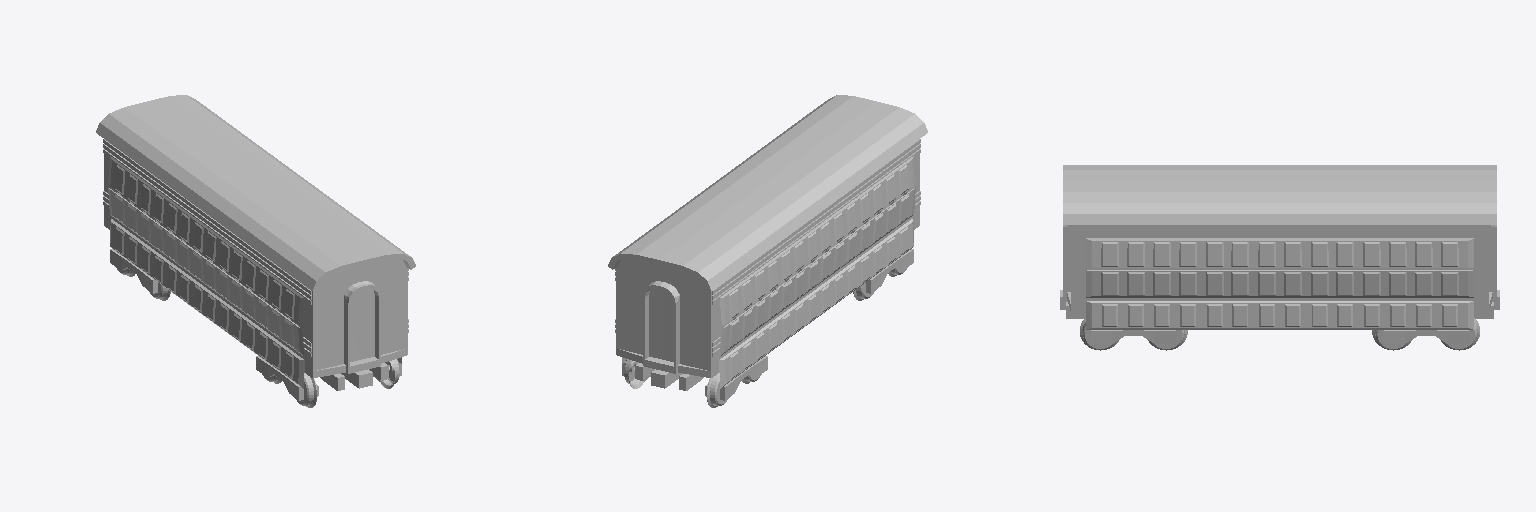
Rendered from armouredPersonelCar.obj.
3 renders of one model, left to right at view 1: azimuth 30°, elevation 25°; view 2: azimuth 150°, elevation 25°; view 3: azimuth 270°, elevation 25°, orthographic.
Parts seen in each view (by area): view 1: Cube.003_Cube.004; view 2: Cube.003_Cube.004; view 3: Cube.003_Cube.004.
Part boxes in pixels (left/top/right/bottom): Cube.003_Cube.004: left=96, top=95, right=415, bottom=407; Cube.003_Cube.004: left=608, top=95, right=927, bottom=407; Cube.003_Cube.004: left=1060, top=165, right=1499, bottom=350.
Bounding box in the file's own units: 5.27 × 7.18 × 18.97.